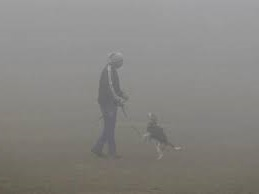person: (89, 50, 130, 158)
